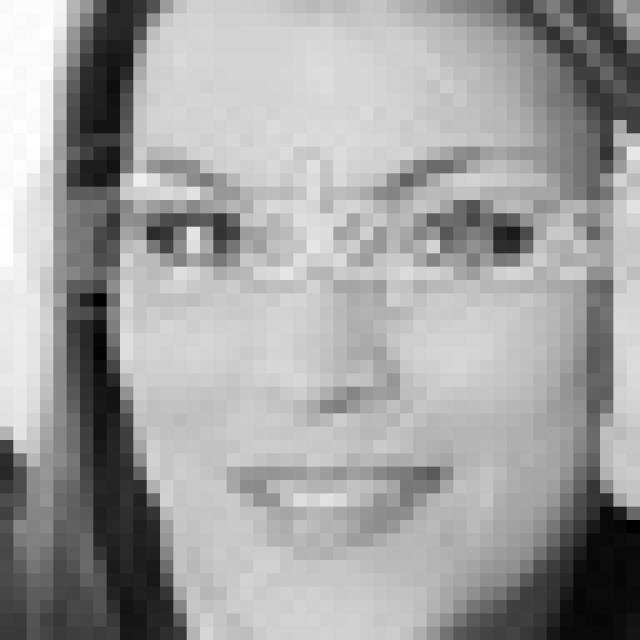happy: (136, 134, 549, 564)
